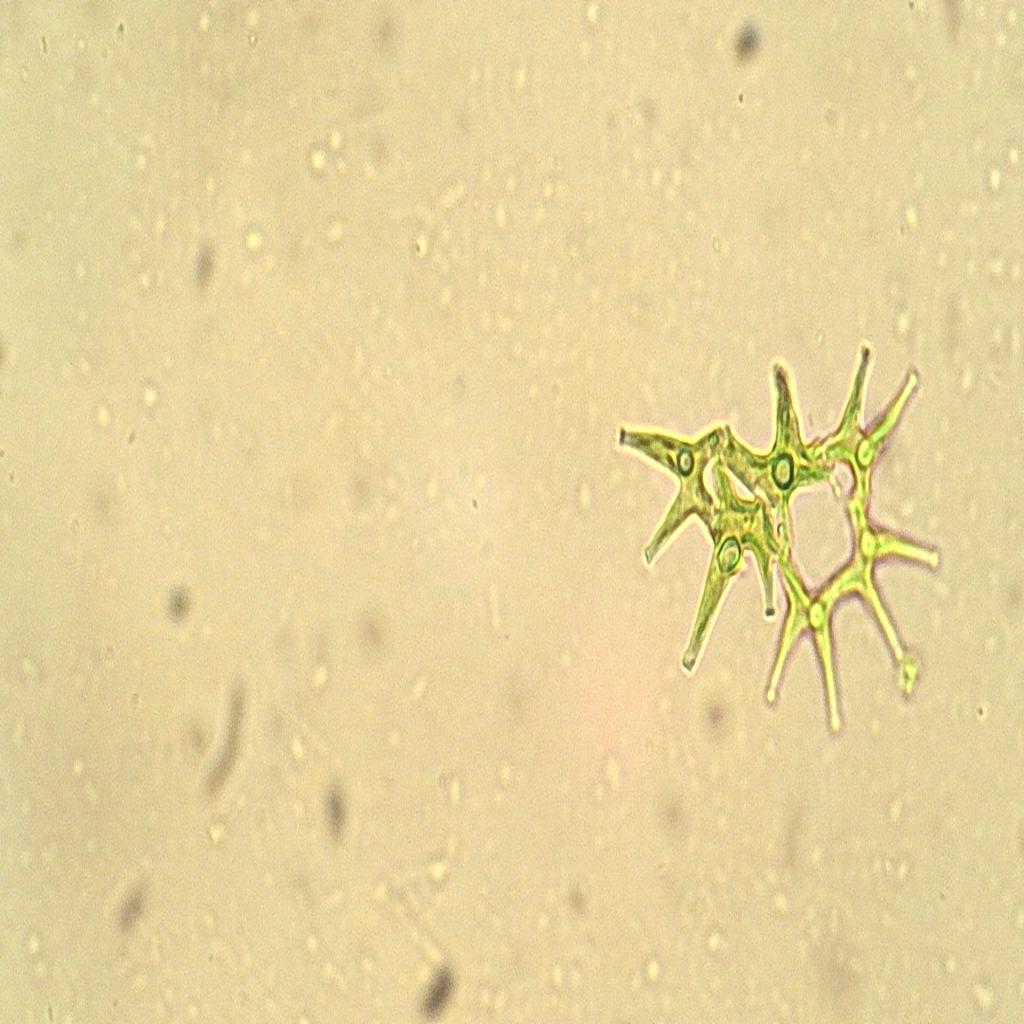Pediastrum_CFI: (598, 291, 956, 756)
